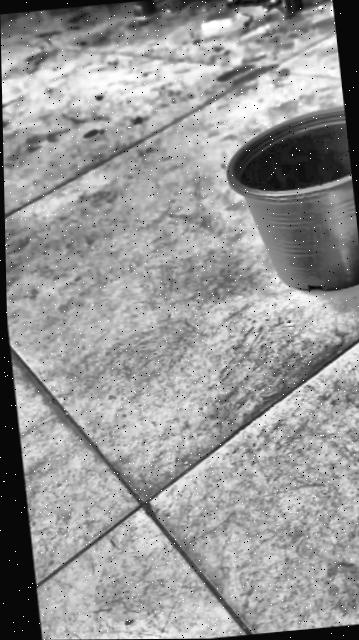pot: (219, 106, 359, 298)
